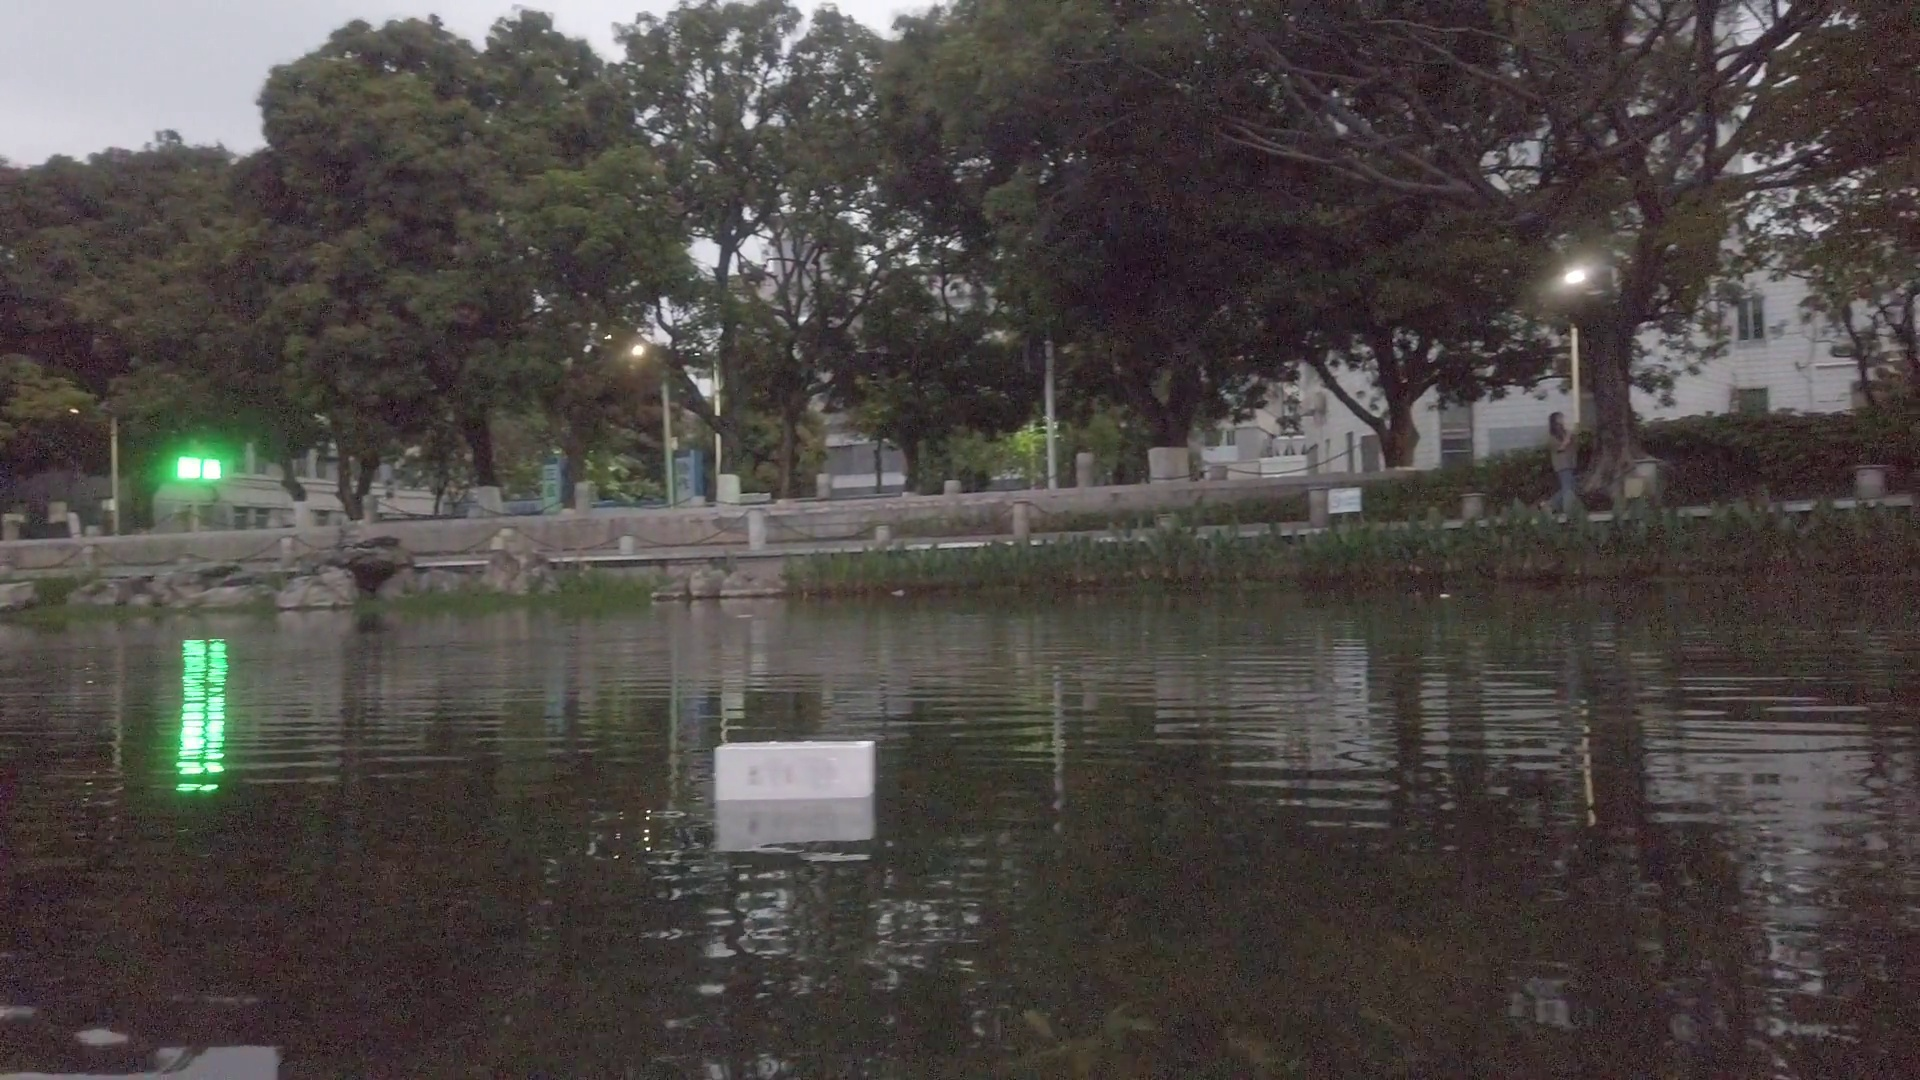carton: (713, 742, 880, 800)
